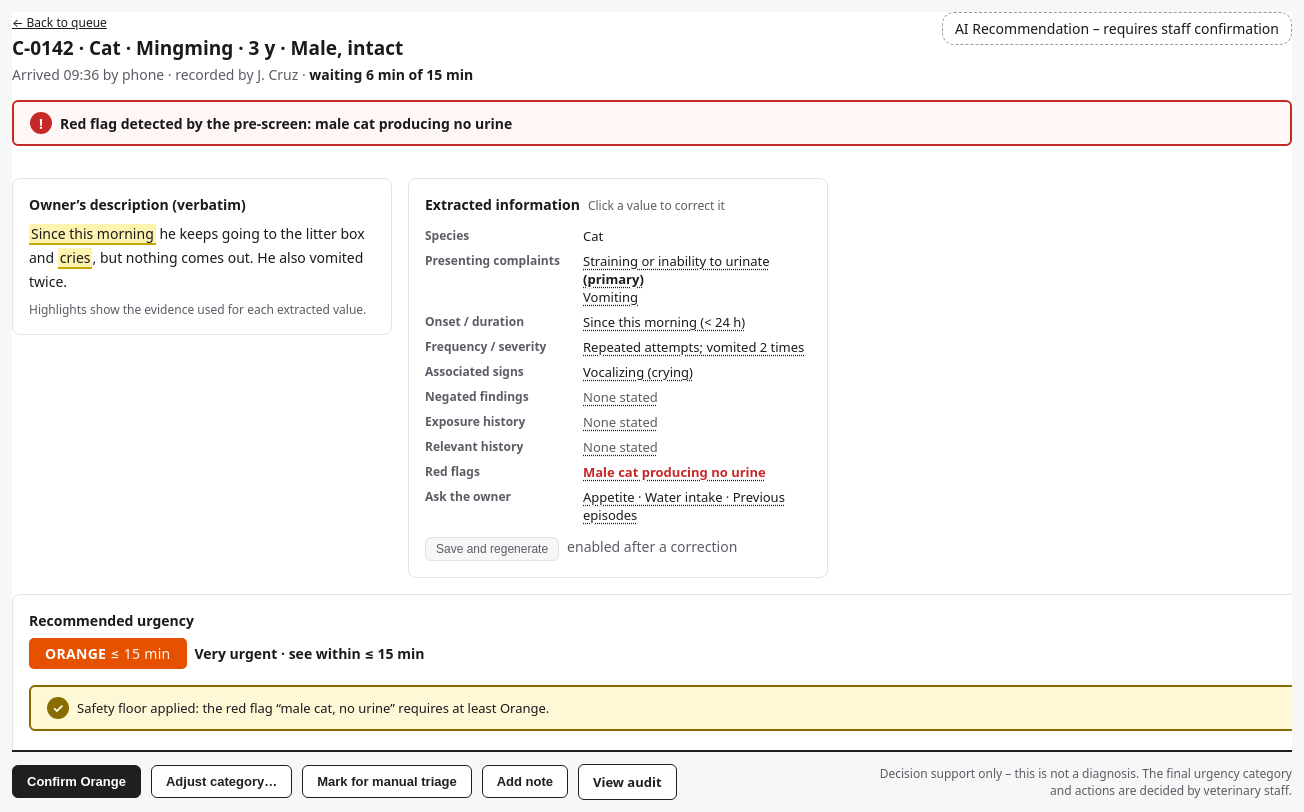
Scenario: CaseReview panel 2 — correcting the extraction (P07 §7.2, FR-27) › shows a quiet error when the correction cannot be sent
Expected: the text "Onset / duration" is shown, [425,313,524,330]
Click the button "Since this morning (< 24 h)": (664, 322) [583,313,745,331]
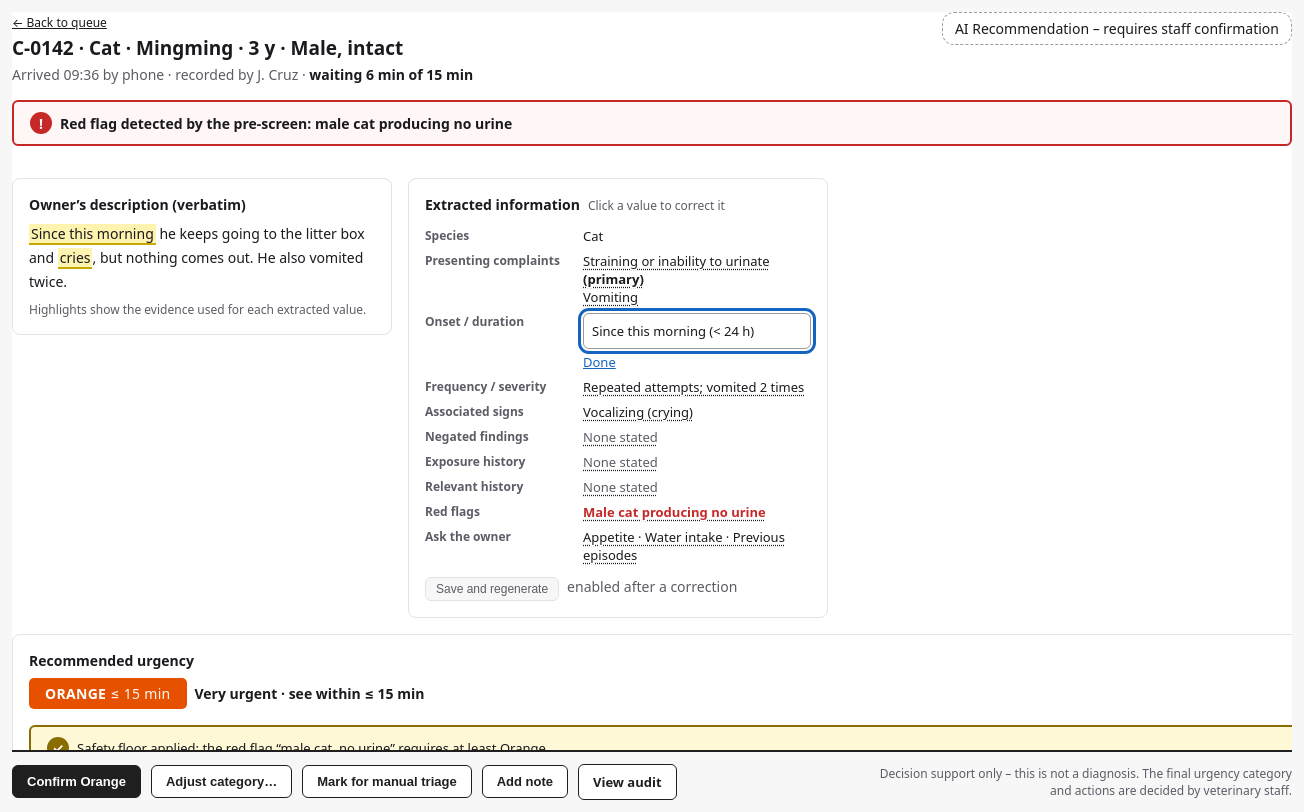
Replace the text in the field named "Onset / duration" with "Since yesterday": (697, 331) [583,313,811,349]
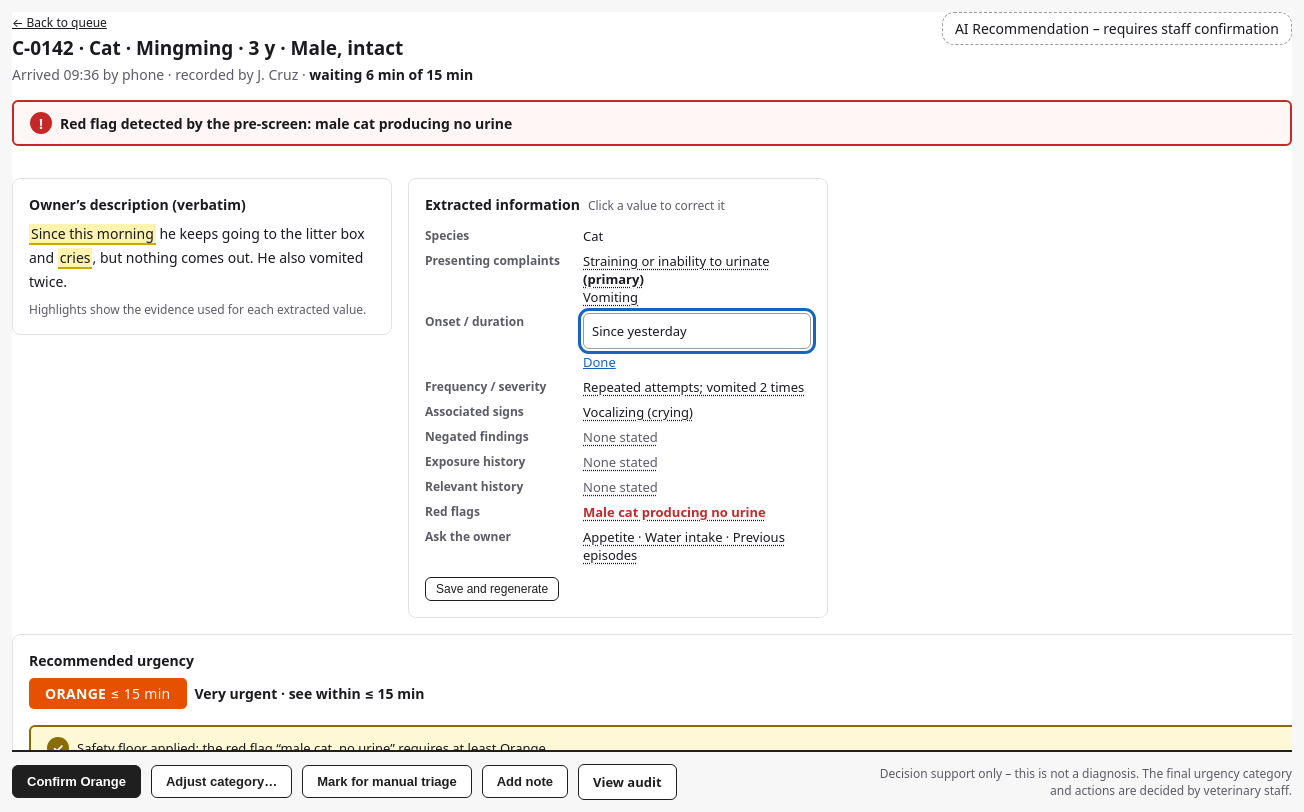
Click the button "Done": (599, 362) [583,353,616,371]
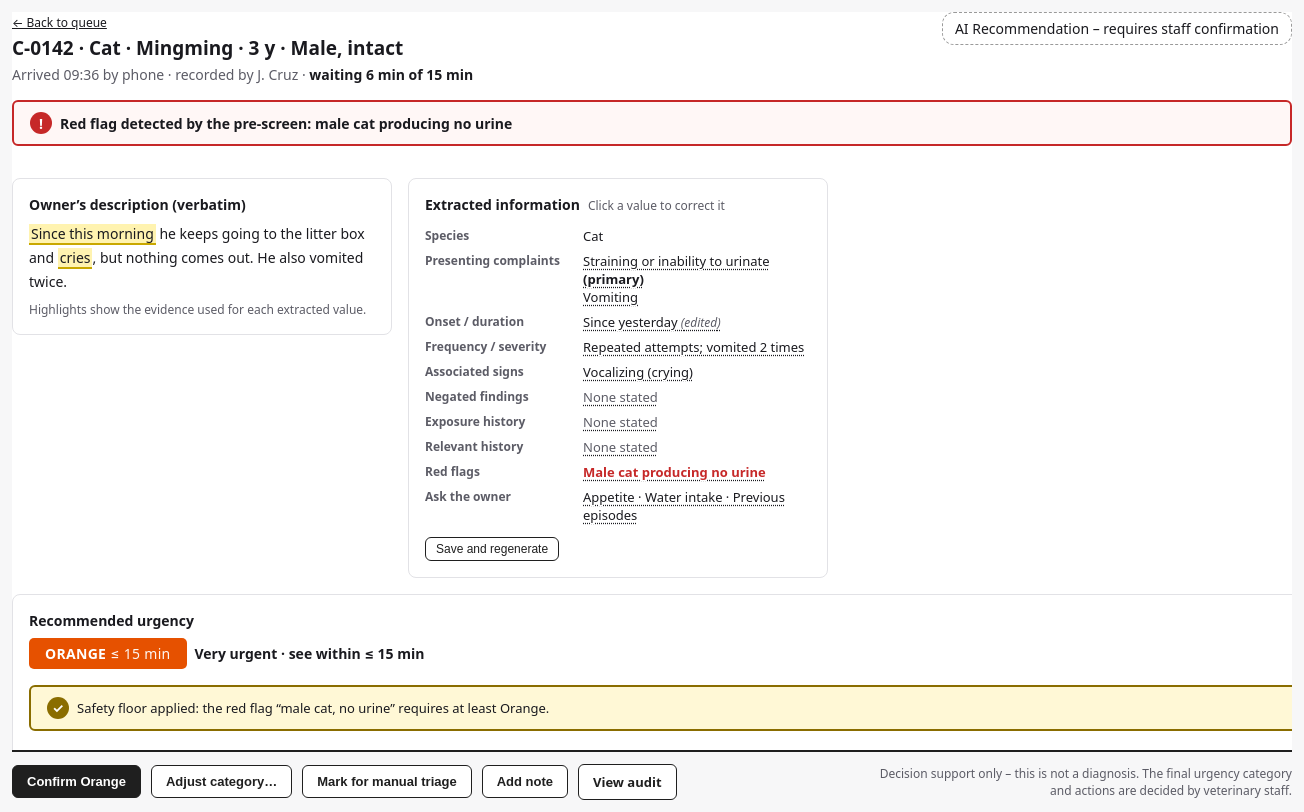
Click the button "Save and regenerate": (492, 549) [425,537,559,561]
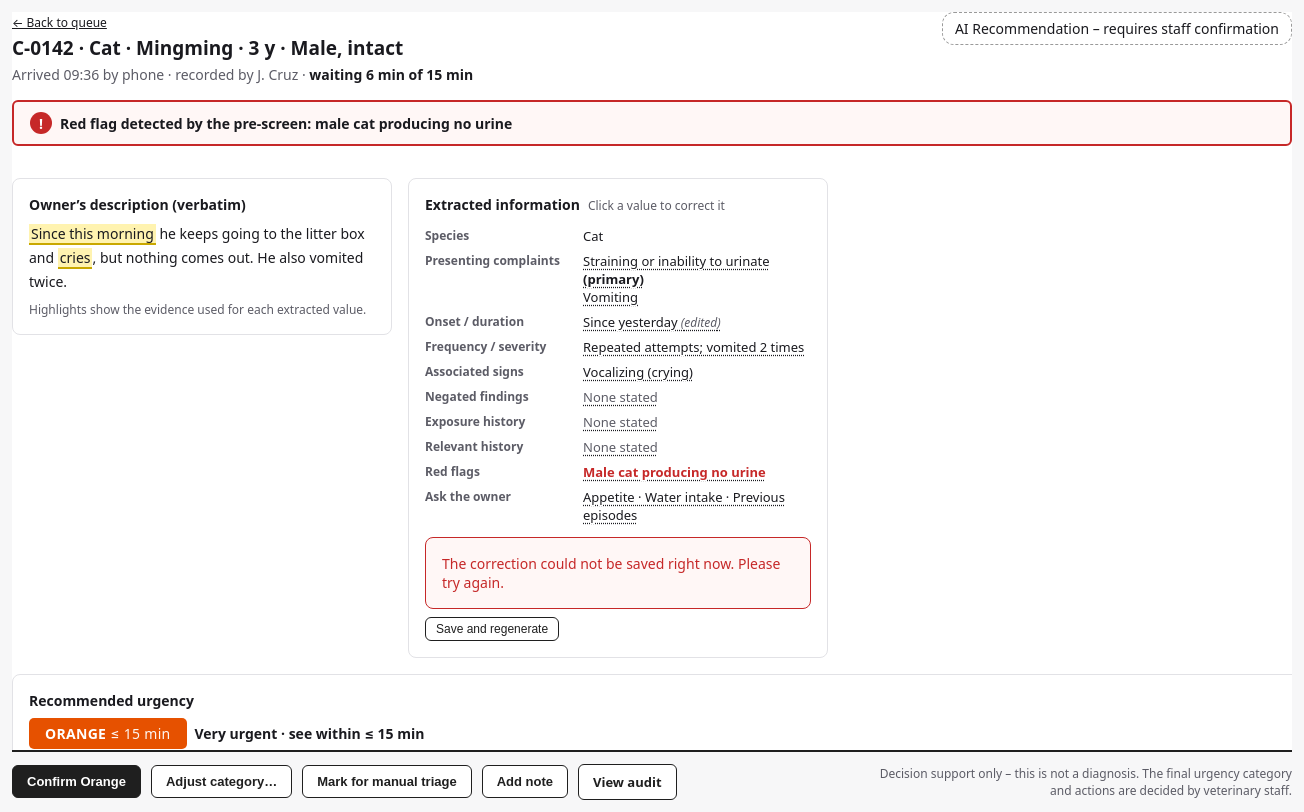
Now the text "The correction could not be saved right now. Please try again." is shown, box [425,537,811,609]
